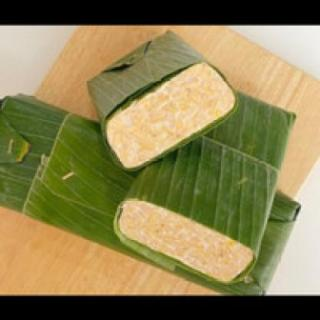Tempe: (88, 31, 240, 174)
